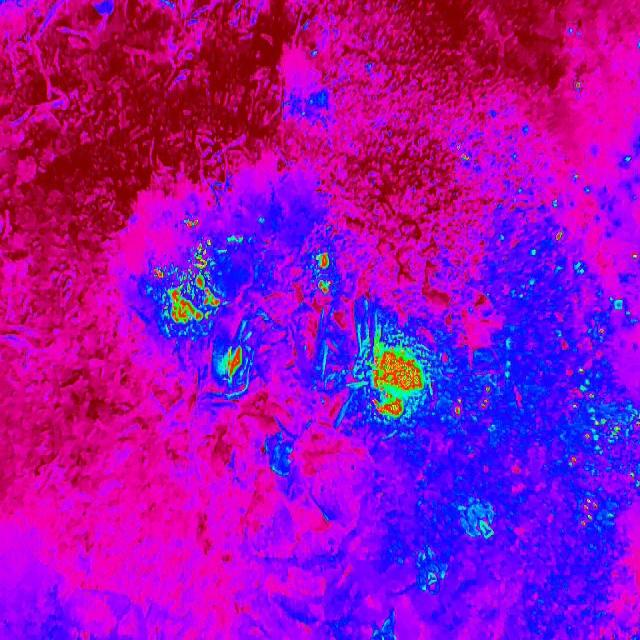fire: (550, 232, 640, 540), (148, 236, 222, 336), (360, 327, 432, 422), (216, 339, 249, 387), (452, 384, 498, 418), (311, 250, 335, 296), (178, 212, 202, 230)
